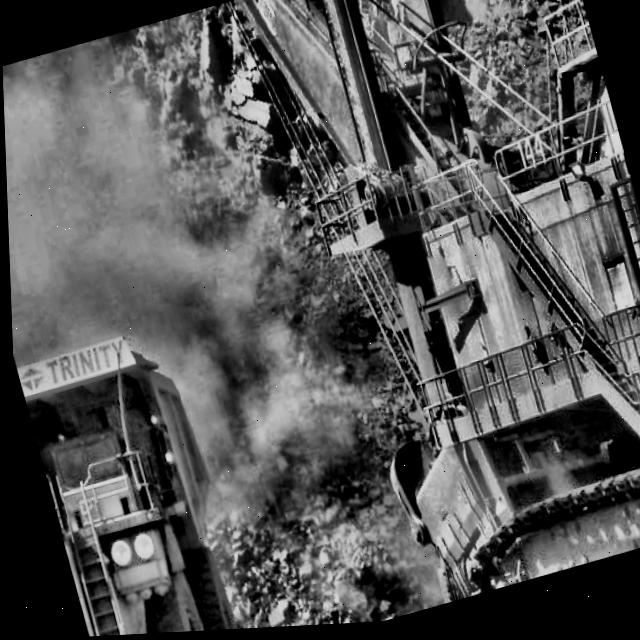dump_truck: (8, 272, 299, 640)
